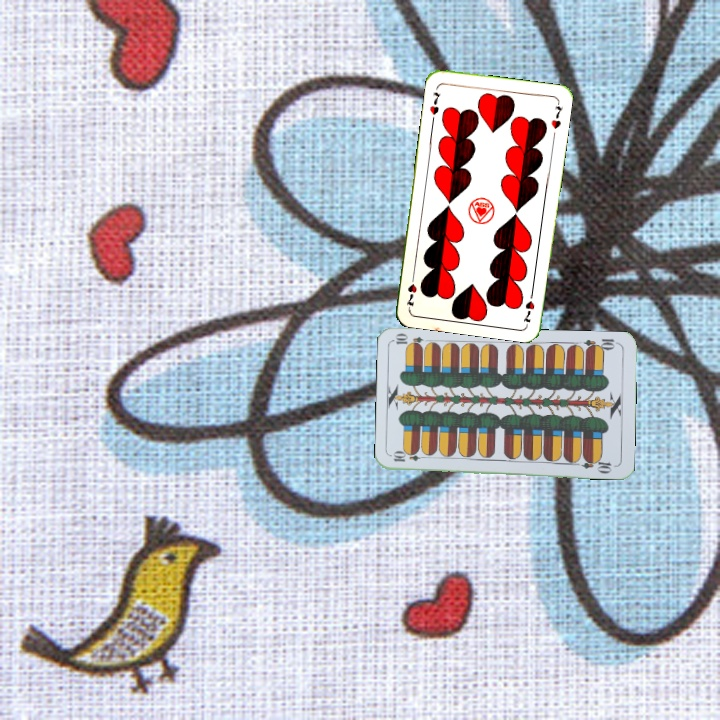E10: (580, 335, 621, 354), (389, 450, 430, 464)
H7: (519, 286, 537, 326), (426, 88, 443, 117)
